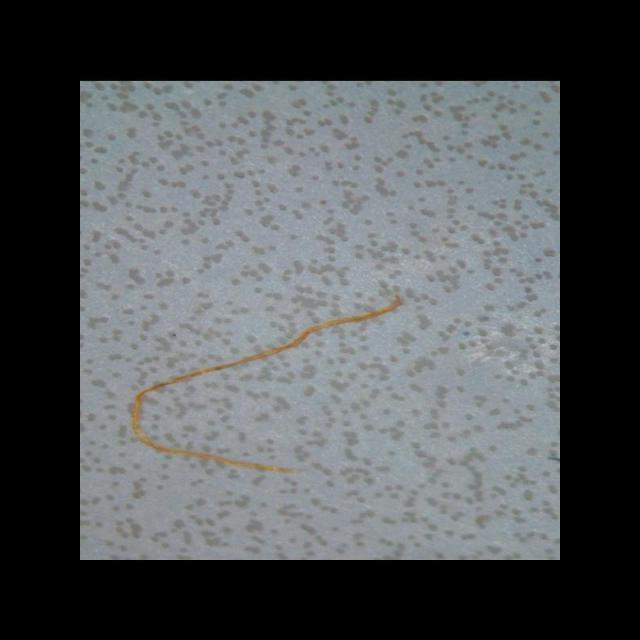Fibre: (128, 294, 404, 474)
